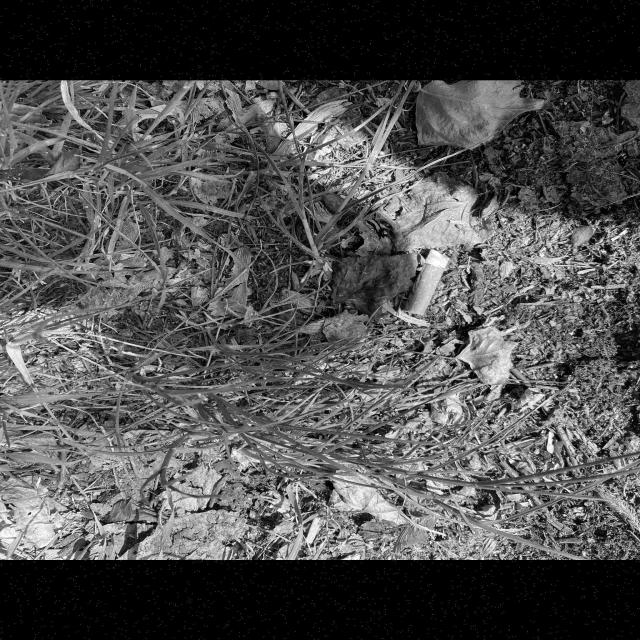other waste: (400, 248, 450, 316)
